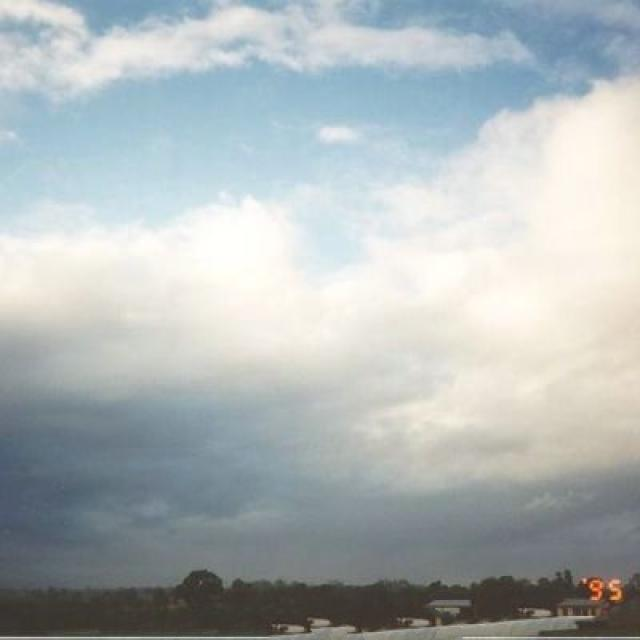Sc: (2, 28, 640, 469)
